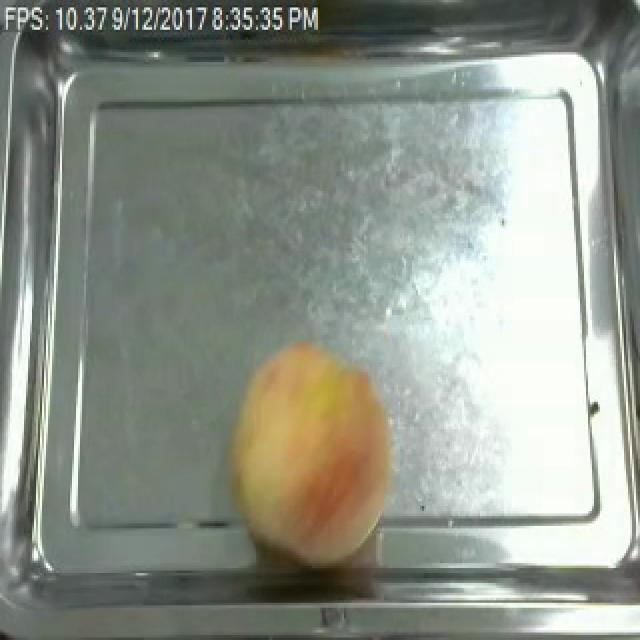Fruit: (216, 335, 404, 568)
